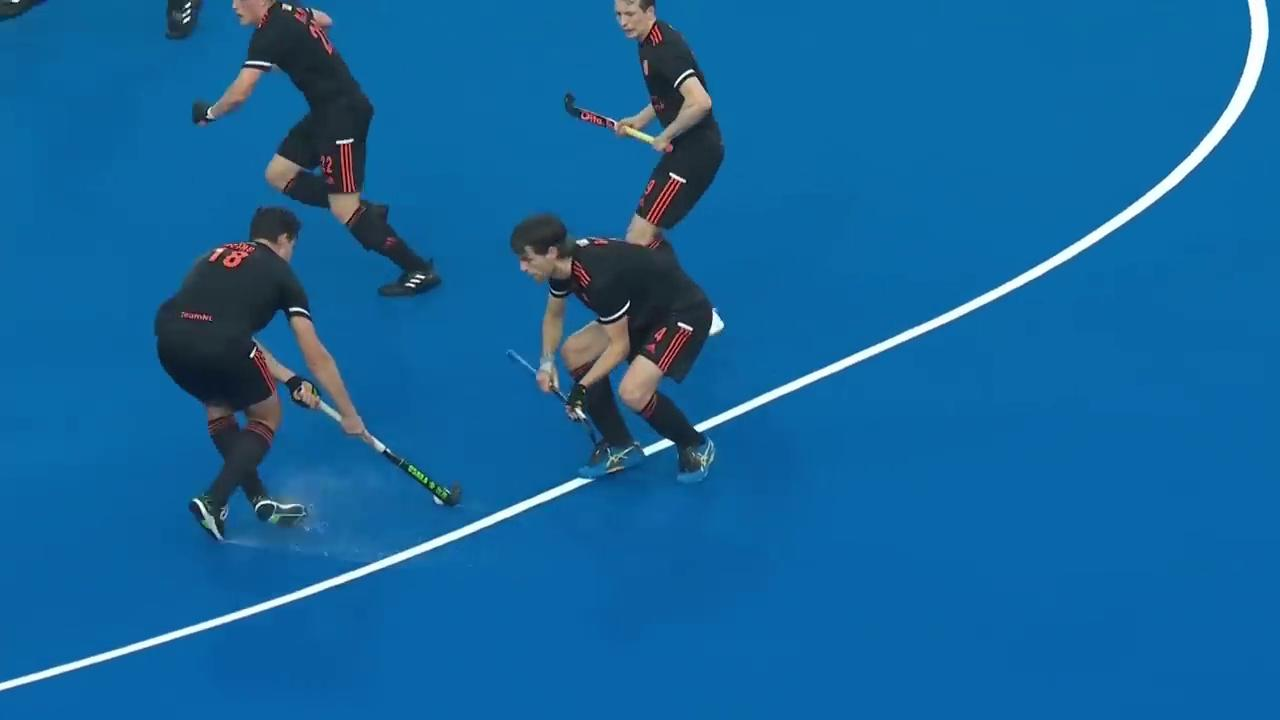ball: (420, 476, 470, 512)
